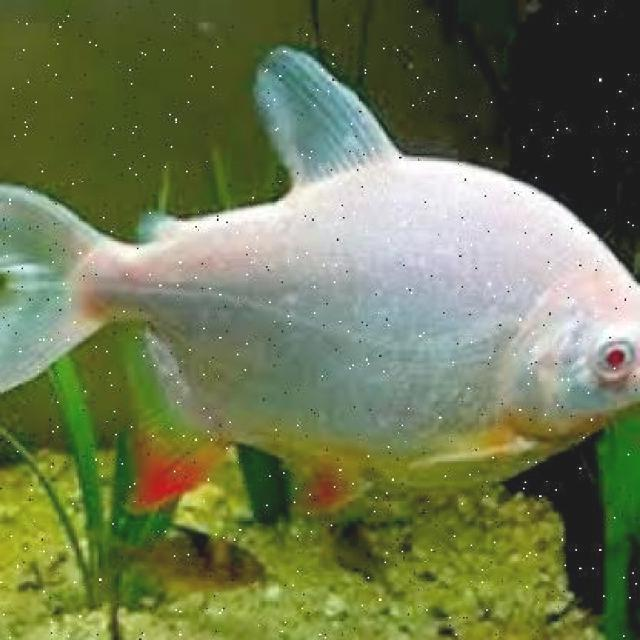ikan-pacu: (9, 144, 640, 487)
